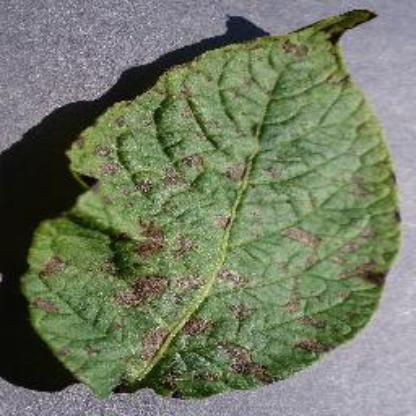Early-Blight: (21, 5, 407, 398)
